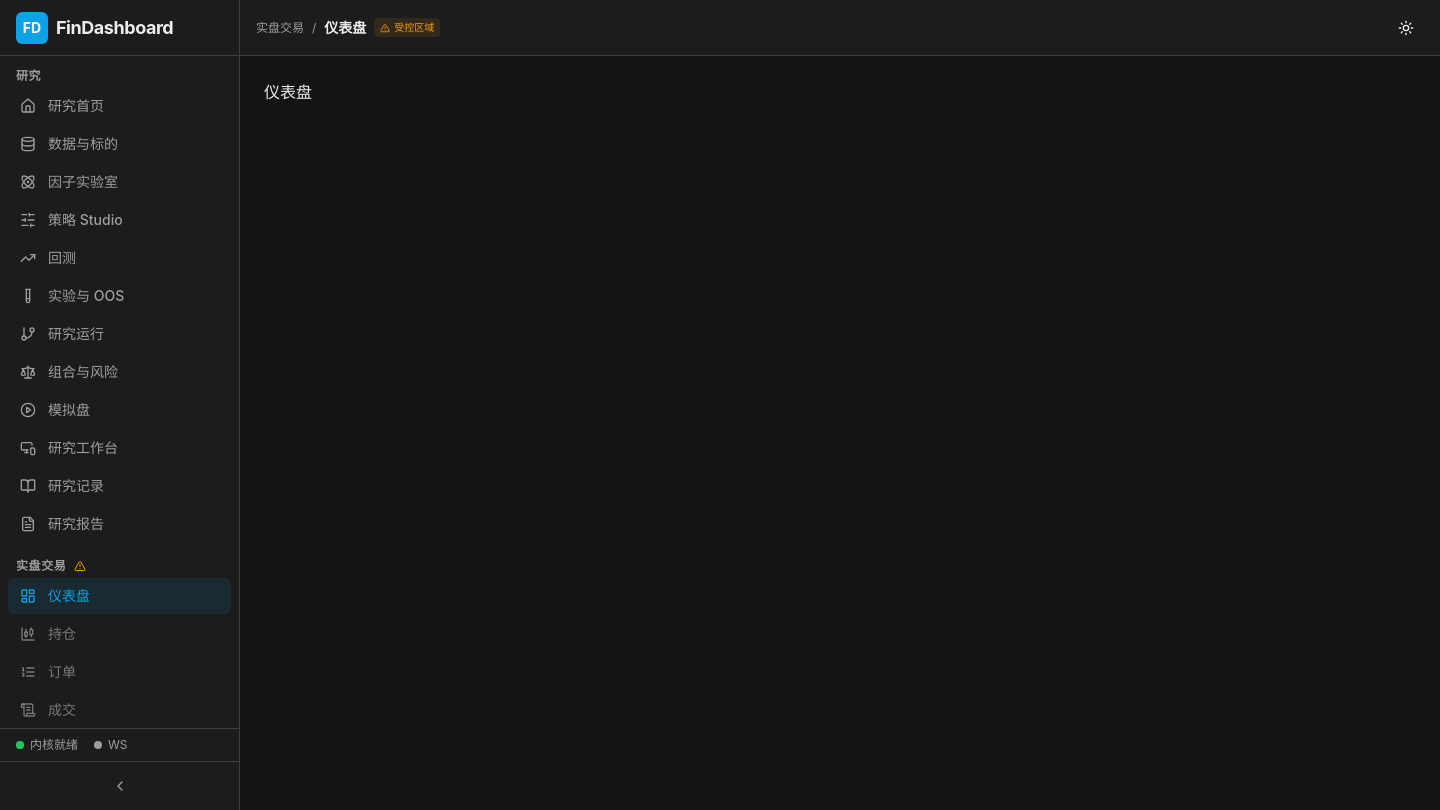
AppShell 布局与标题层级(#163) › 折叠按钮切换侧栏宽度并带可访问名称
Click the button named "折叠侧栏". click: (120, 786)
box: [8,770,231,802]
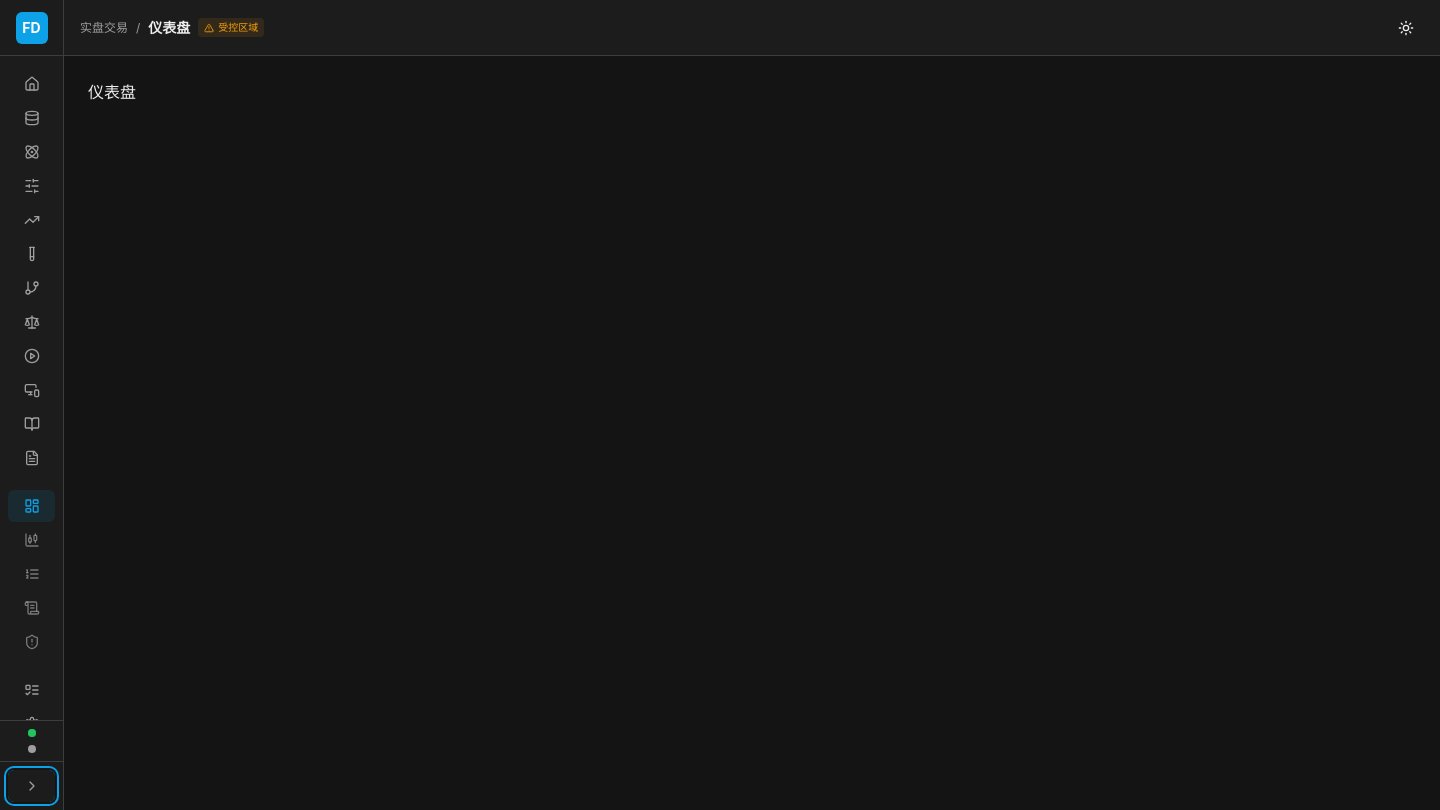
Expected: the button named "展开侧栏" is shown, [8,770,55,802]
